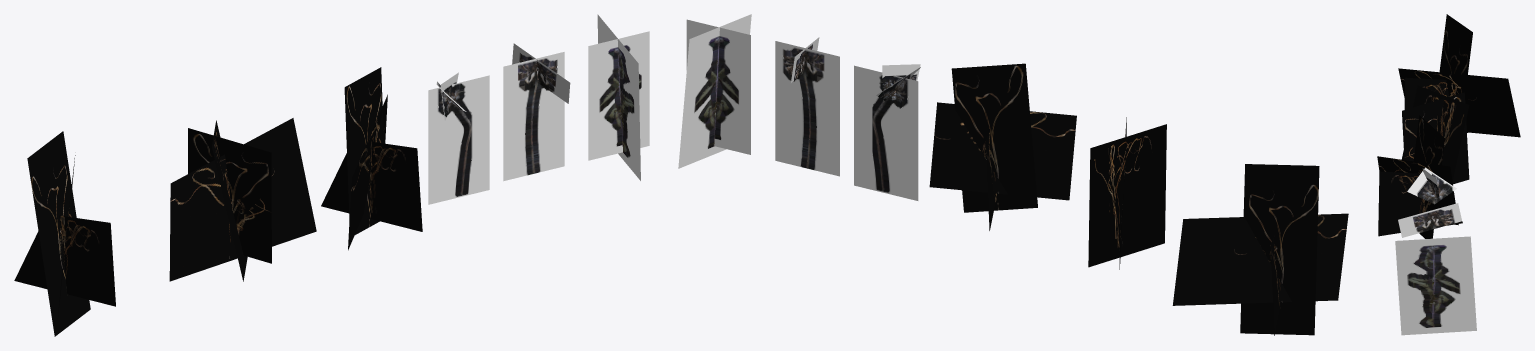
The model's file is LowpolyFallFoliage.fbx.
The picture shows the model from 3 angles, left to right: view 1: azimuth 30°, elevation 25°; view 2: azimuth 150°, elevation 25°; view 3: azimuth 270°, elevation 25°; orthographic projection. The views are drawn at different scales.
Parts seen in each view (by area): view 1: DeadGrass2, DeadGrass1, DeadGrass3, CurlyWeed1, DeadSunflower2, DeadSunflower3; view 2: DeadGrass1, DeadGrass3, DeadGrass2, CurlyWeed1, DeadSunflower3, DeadSunflower2; view 3: CurlyWeed1, DeadGrass1, DeadGrass3, DeadGrass2, DeadSunflower2, DeadSunflower3.
Boxes of the visible parts, bbox=[...] form: DeadGrass2: bbox=[169, 118, 316, 281]; DeadGrass1: bbox=[14, 131, 115, 336]; DeadGrass3: bbox=[321, 67, 422, 250]; CurlyWeed1: bbox=[588, 14, 649, 180]; DeadSunflower2: bbox=[503, 43, 570, 181]; DeadSunflower3: bbox=[428, 72, 489, 204]; DeadGrass1: bbox=[1172, 164, 1348, 335]; DeadGrass3: bbox=[929, 63, 1076, 230]; DeadGrass2: bbox=[1088, 117, 1166, 269]; CurlyWeed1: bbox=[678, 14, 751, 168]; DeadSunflower3: bbox=[854, 64, 920, 200]; DeadSunflower2: bbox=[775, 37, 839, 176]; CurlyWeed1: bbox=[1395, 236, 1476, 335]; DeadGrass1: bbox=[1398, 14, 1520, 137]; DeadGrass3: bbox=[1377, 115, 1462, 238]; DeadGrass2: bbox=[1401, 85, 1469, 184]; DeadSunflower2: bbox=[1398, 203, 1461, 237]; DeadSunflower3: bbox=[1407, 167, 1456, 204].
Size of the model in its own units: 560 by 162 by 151.
